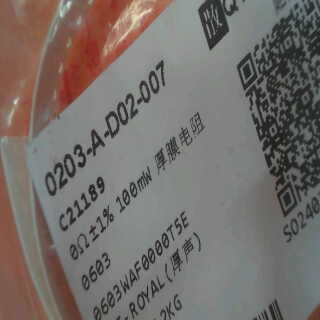0R: (65, 204, 117, 289)
